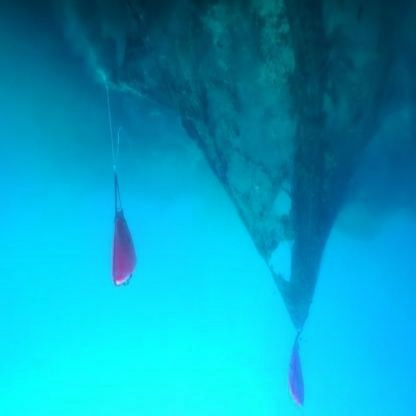misc: (92, 164, 178, 303)
